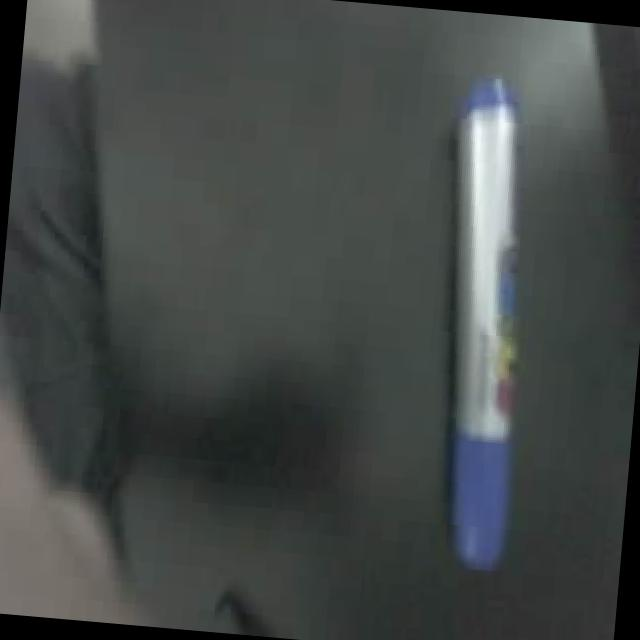board-marker: (450, 79, 516, 567)
